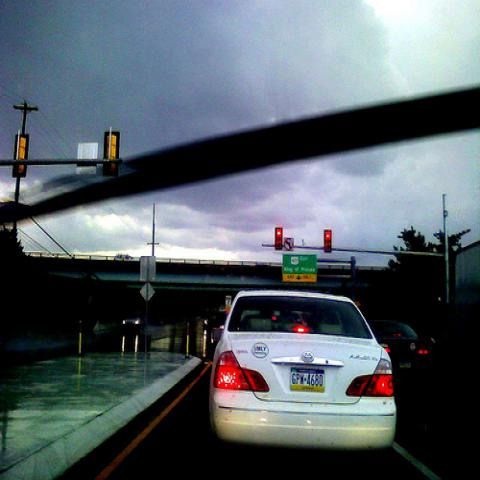car: (211, 290, 400, 449), (368, 320, 439, 386)
truck: (120, 318, 145, 354)
